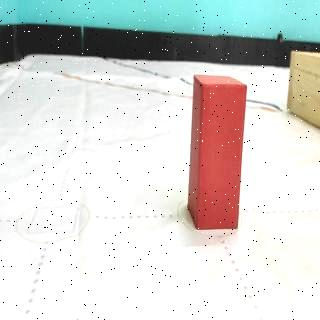redbox: (188, 73, 248, 230)
